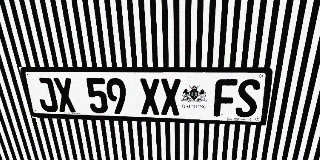5: (85, 78, 109, 113)
9: (105, 78, 128, 114)
F: (213, 79, 238, 117)
J: (34, 77, 59, 112)
S: (235, 79, 261, 118)
X: (52, 78, 77, 113), (139, 78, 160, 115), (160, 78, 181, 115)
